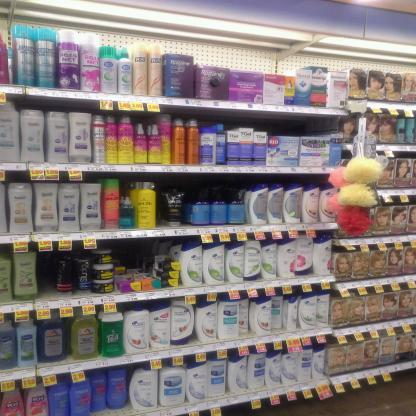Void: (259, 112, 333, 136), (187, 176, 240, 197), (120, 243, 150, 273), (38, 254, 53, 301)
